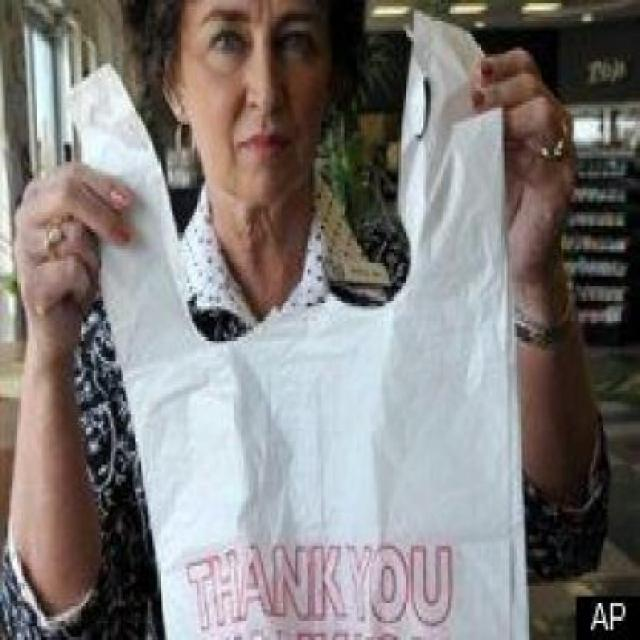plastic bag: (60, 6, 528, 637)
